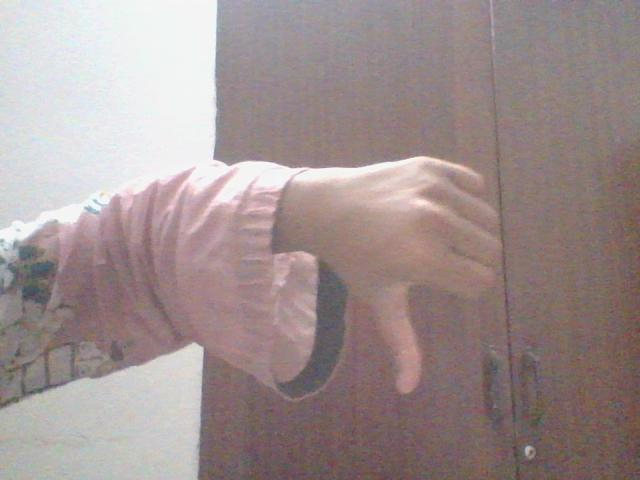thumbs-down: (342, 149, 506, 409)
